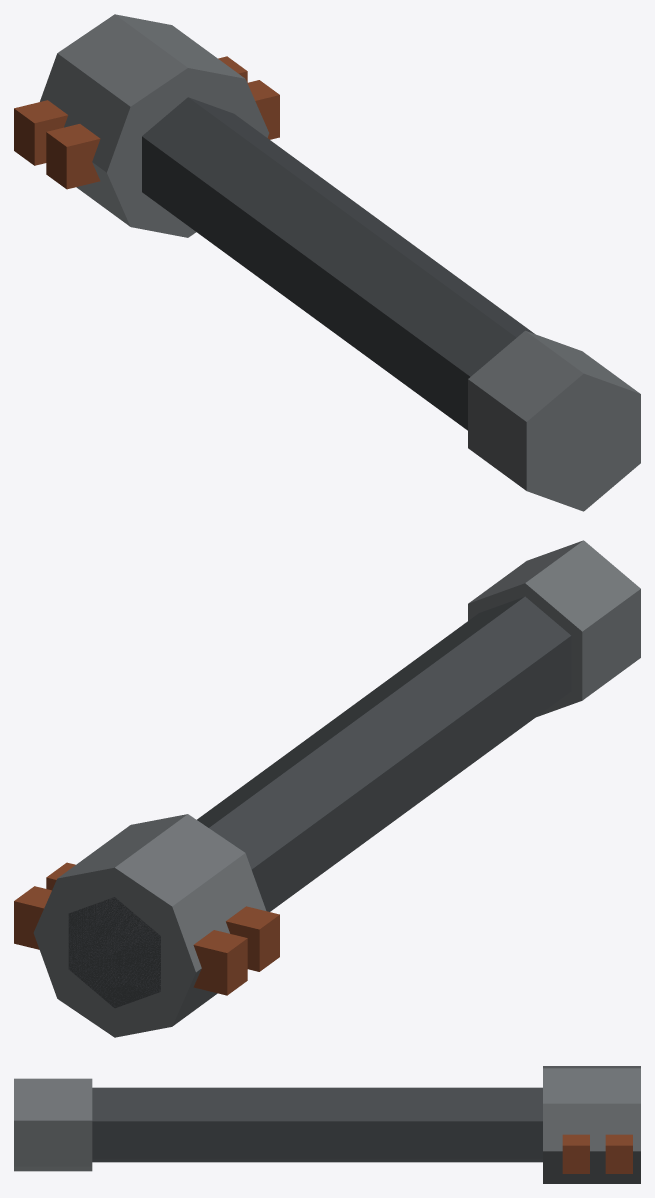
File: mod_long_barrel.glb
3 views of the same model, one above another, from view 1: azimuth 30°, elevation 25°; view 2: azimuth 150°, elevation 25°; view 3: azimuth 270°, elevation 25° (orthographic). The views are drawn at different scales.
Parts seen in each view (by area): view 1: long_barrel; view 2: long_barrel; view 3: long_barrel.
Boxes of the visible parts, <box> form: long_barrel: <box>14,14,640,511</box>; long_barrel: <box>14,540,640,1037</box>; long_barrel: <box>14,1066,640,1183</box>.
Bounding box in the file's own units: 0.084 × 0.064 × 0.32.
